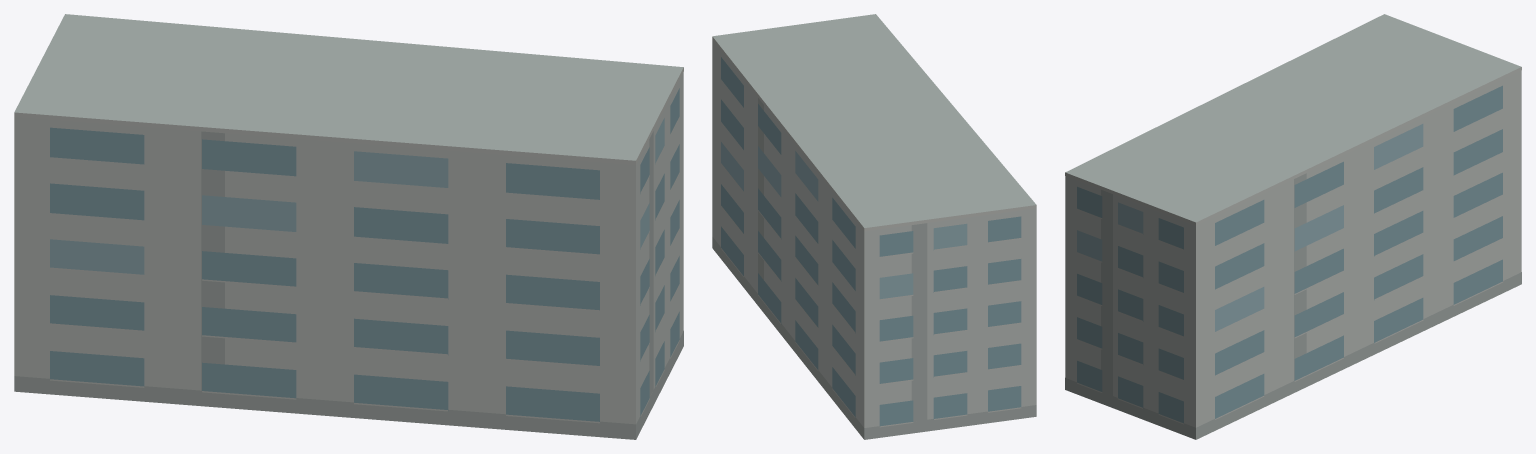
The model's file is residential-3cca113c-2f06-4378-9016-ad2f4d449591.glb.
3 views of the same model, side by side, from view 1: azimuth 30°, elevation 25°; view 2: azimuth 150°, elevation 25°; view 3: azimuth 270°, elevation 25° (orthographic). The views are drawn at different scales.
Parts seen in each view (by area): view 1: residential-3cca113c-2f06-4378-9016-ad2f4d449591.tmp; view 2: residential-3cca113c-2f06-4378-9016-ad2f4d449591.tmp; view 3: residential-3cca113c-2f06-4378-9016-ad2f4d449591.tmp.
Part boxes in pixels (x1,y1,x2,y2): residential-3cca113c-2f06-4378-9016-ad2f4d449591.tmp: [14, 14, 683, 439]; residential-3cca113c-2f06-4378-9016-ad2f4d449591.tmp: [712, 14, 1036, 439]; residential-3cca113c-2f06-4378-9016-ad2f4d449591.tmp: [1065, 14, 1521, 439].
Size of the model in its own units: 31.37 by 15.25 by 29.03.
